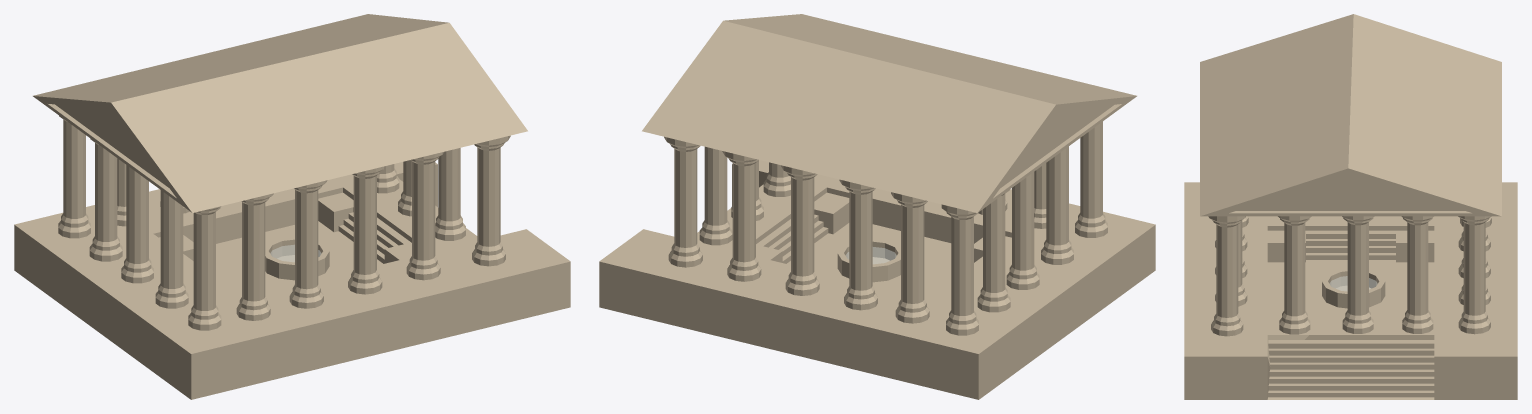
Rendered from temple.glb.
The picture shows the model from 3 angles, left to right: view 1: azimuth 30°, elevation 25°; view 2: azimuth 150°, elevation 25°; view 3: azimuth 270°, elevation 25°; orthographic projection. The views are drawn at different scales.
Parts seen in each view (by area): view 1: group517262673, group1016466672, group1938048215, group104509553, group1148870556, group65283361, group873921880, group299842758, group2077188613, group1388451044, group728574991, group1677314773 (+6 smaller); view 2: group517262673, group1016466672, group841805903, group821409189, group178755862, group647099204, group1471910178, group728574991, group1388451044, group1677314773, group2077188613, group299842758 (+5 smaller); view 3: group517262673, group1016466672, group1938048215, group178755862, group1223366635, group369415912, group773675357, group1210117731, group630620742, group645826454, group1454571299, group423791405 (+11 smaller).
Part boxes in pixels (x1=…): group517262673: x1=33, y1=14, x2=527, y2=212; group1016466672: x1=14, y1=162, x2=570, y2=399; group1938048215: x1=472, y1=135, x2=510, y2=266; group104509553: x1=348, y1=166, x2=385, y2=294; group1148870556: x1=406, y1=152, x2=443, y2=280; group65283361: x1=289, y1=180, x2=327, y2=308; group873921880: x1=236, y1=193, x2=273, y2=320; group299842758: x1=188, y1=206, x2=221, y2=330; group2077188613: x1=155, y1=190, x2=188, y2=308; group1388451044: x1=89, y1=138, x2=122, y2=261; group728574991: x1=58, y1=115, x2=90, y2=238; group1677314773: x1=121, y1=165, x2=153, y2=283; group517262673: x1=642, y1=14, x2=1136, y2=212; group1016466672: x1=599, y1=160, x2=1155, y2=399; group841805903: x1=891, y1=192, x2=929, y2=323; group821409189: x1=781, y1=165, x2=819, y2=295; group178755862: x1=664, y1=136, x2=702, y2=267; group647099204: x1=722, y1=151, x2=761, y2=281; group1471910178: x1=839, y1=179, x2=877, y2=310; group728574991: x1=941, y1=204, x2=978, y2=335; group1388451044: x1=977, y1=189, x2=1010, y2=312; group1677314773: x1=1006, y1=172, x2=1039, y2=289; group2077188613: x1=1041, y1=146, x2=1073, y2=264; group299842758: x1=1075, y1=121, x2=1107, y2=237; group517262673: x1=1200, y1=14, x2=1501, y2=216; group1016466672: x1=1184, y1=182, x2=1517, y2=399; group1938048215: x1=1208, y1=216, x2=1245, y2=336; group178755862: x1=1458, y1=216, x2=1491, y2=334; group1223366635: x1=1278, y1=216, x2=1311, y2=334; group369415912: x1=1342, y1=216, x2=1374, y2=333; group773675357: x1=1401, y1=216, x2=1433, y2=333; group1210117731: x1=1268, y1=340, x2=1434, y2=348; group630620742: x1=1322, y1=268, x2=1385, y2=308; group645826454: x1=1268, y1=390, x2=1434, y2=397; group1454571299: x1=1268, y1=383, x2=1434, y2=390; group423791405: x1=1268, y1=348, x2=1434, y2=355.
Size of the model in its own units: 0.78 by 0.45 by 0.63.
